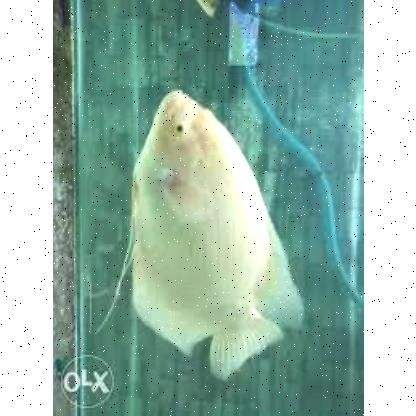gurame: (116, 92, 310, 364)
